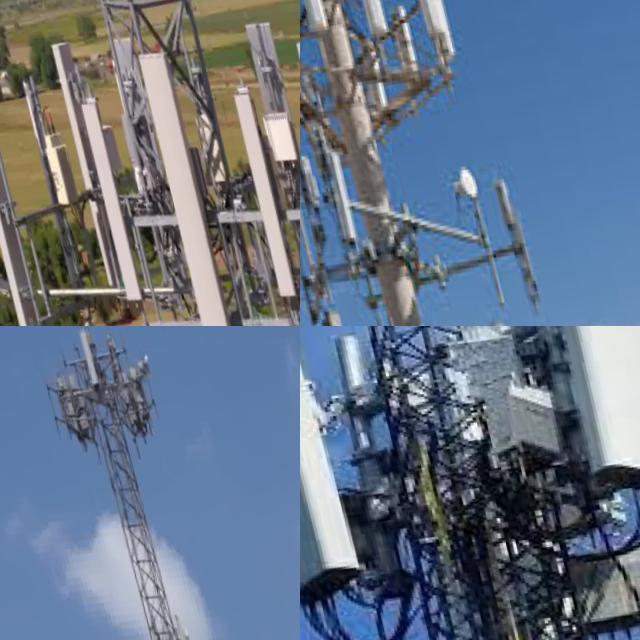GSM Antenna: (133, 30, 244, 326), (499, 326, 640, 507), (300, 326, 375, 615), (36, 44, 119, 296), (237, 7, 300, 285), (77, 92, 153, 319), (226, 85, 300, 299), (0, 65, 43, 326), (489, 174, 542, 309), (313, 137, 362, 241), (398, 0, 449, 43), (70, 326, 103, 388), (345, 0, 393, 37), (300, 0, 335, 34)
Microwave Antenna: (447, 159, 479, 203), (135, 348, 158, 381), (175, 619, 193, 640), (127, 629, 148, 640)
